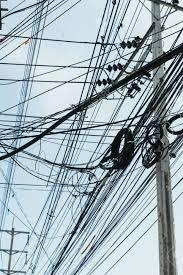wires-only: (0, 2, 152, 273)
